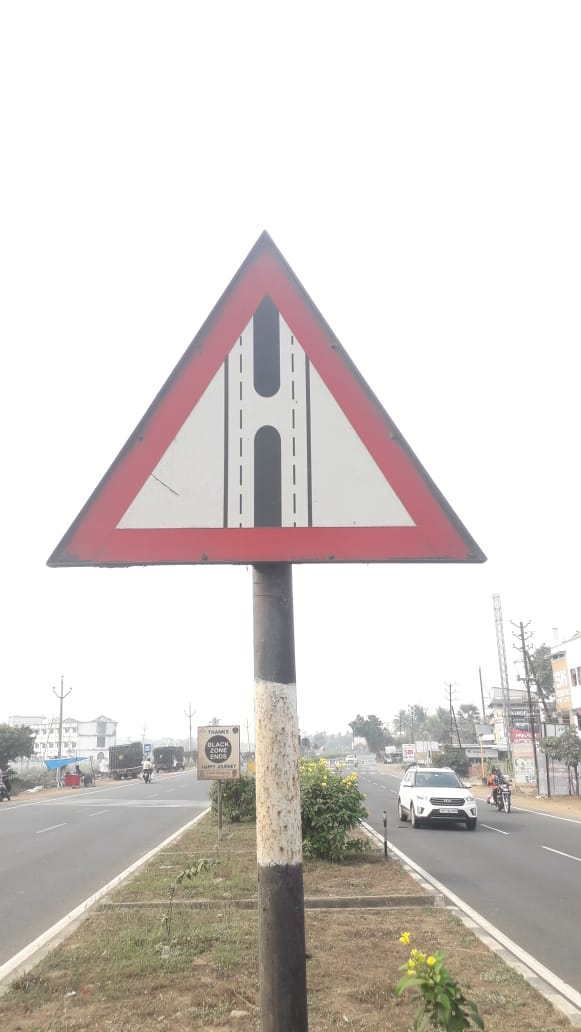highway go straight: (48, 185, 504, 632)
